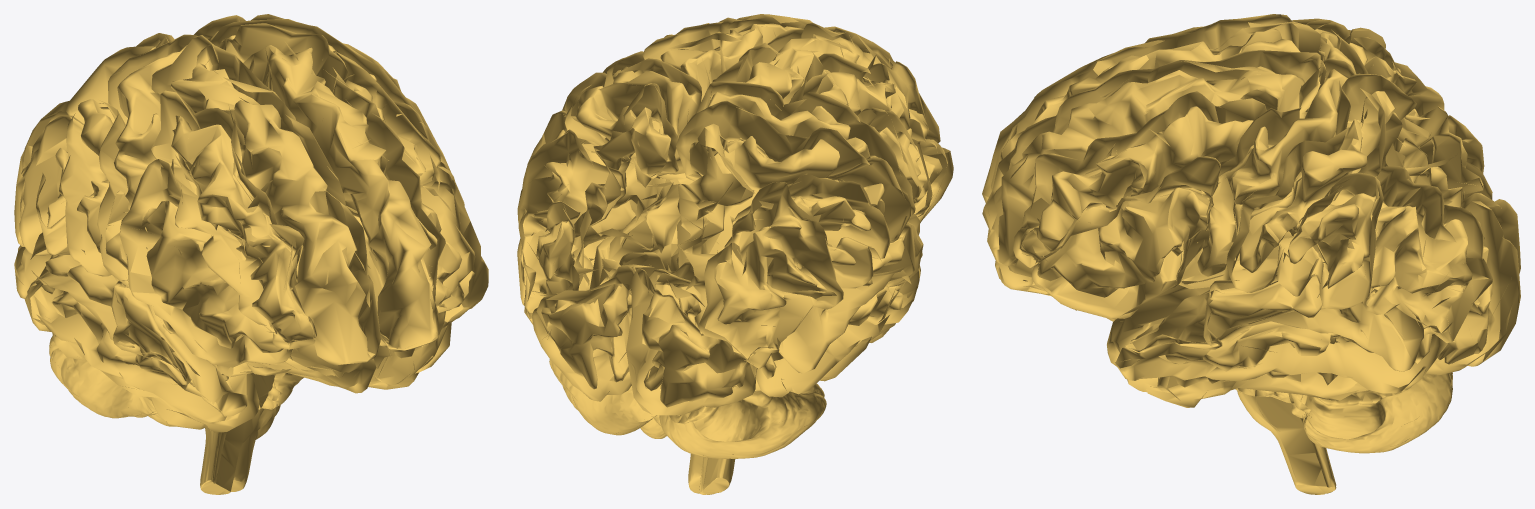
File: nervoso.glb
3 renders of one model, left to right at view 1: azimuth 30°, elevation 25°; view 2: azimuth 150°, elevation 25°; view 3: azimuth 270°, elevation 25°, orthographic. The views are drawn at different scales.
Visible parts, largest first — view 1: cerebro, troncocerebral, cerebelo; view 2: cerebro, cerebelo, troncocerebral; view 3: cerebro, cerebelo, troncocerebral.
Part boxes in pixels (x1,y1,x2,y2): cerebro: (14, 14, 488, 432); troncocerebral: (200, 372, 303, 494); cerebelo: (49, 336, 303, 426); cerebro: (517, 14, 953, 415); cerebelo: (549, 359, 826, 458); troncocerebral: (688, 454, 735, 494); cerebro: (982, 14, 1520, 407); cerebelo: (1288, 372, 1452, 453); troncocerebral: (1235, 388, 1336, 494).
Bounding box in the file's own units: 1.29 × 1.51 × 1.64.
